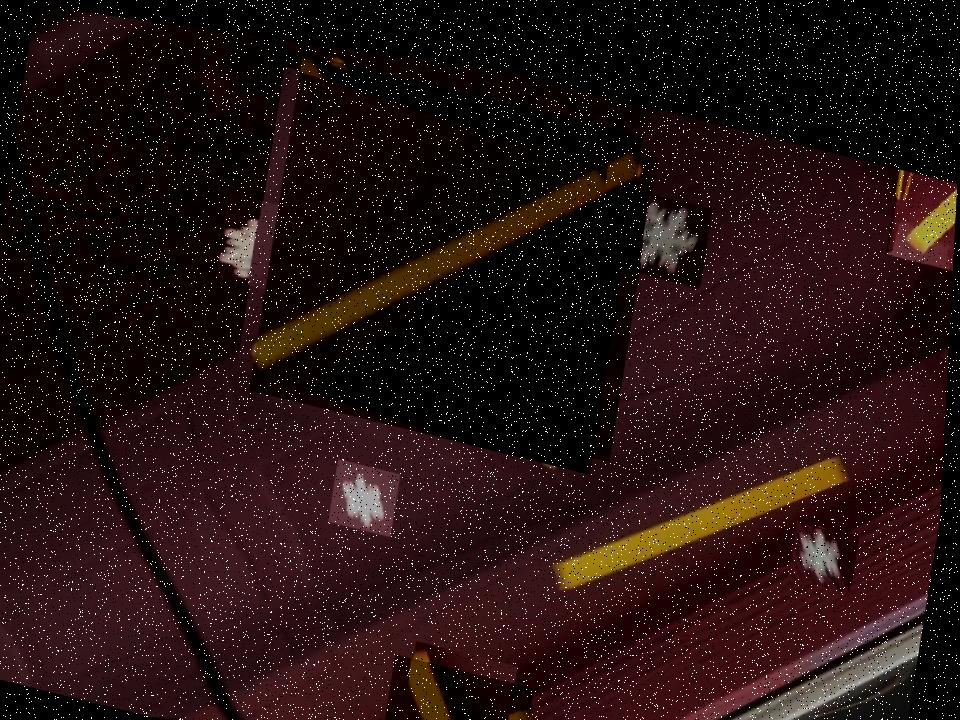dent: (621, 169, 714, 268), (219, 184, 300, 286), (333, 448, 406, 526), (794, 493, 864, 568)
scratch: (253, 40, 646, 460), (384, 640, 541, 720), (888, 141, 958, 245)
